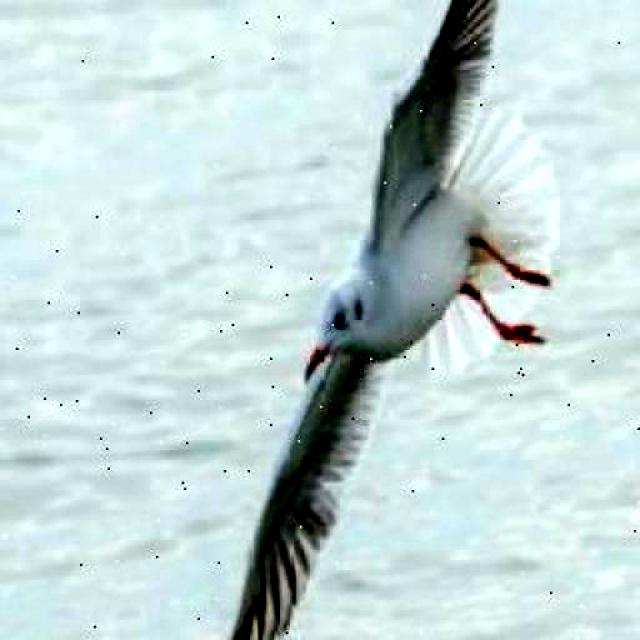airplane: (118, 0, 591, 640)
